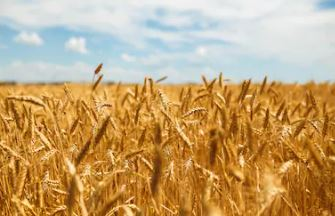Wheat: (60, 88, 176, 162)
